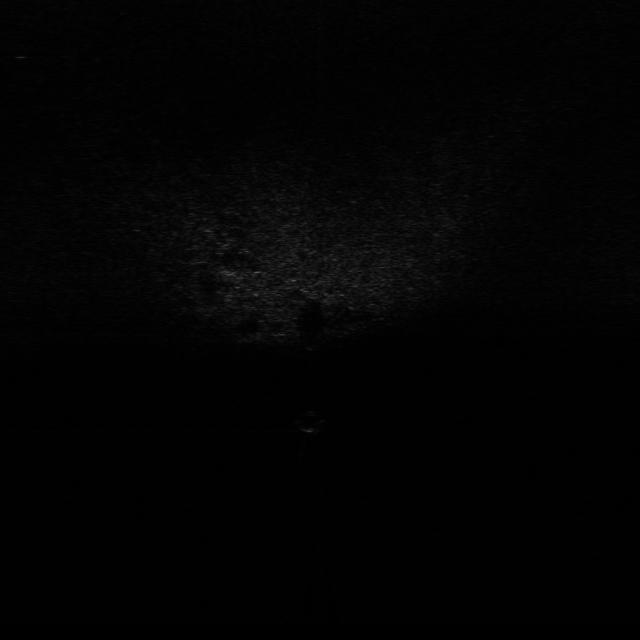ball: (296, 409, 330, 435)
